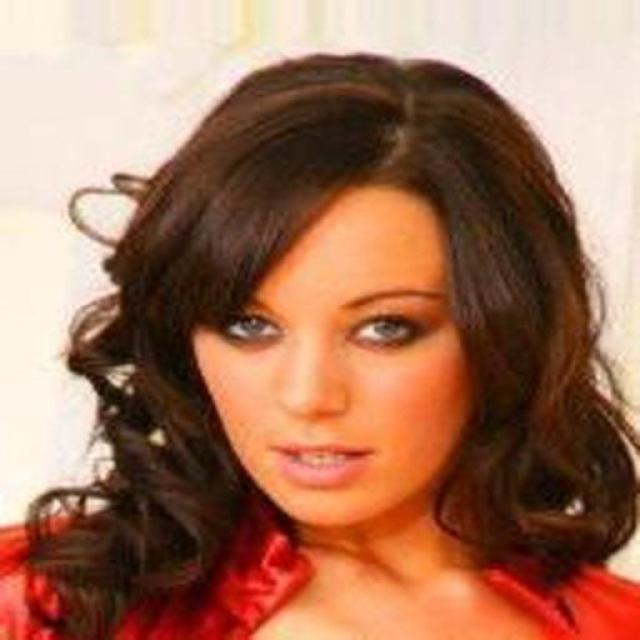bareface: (210, 233, 474, 514)
